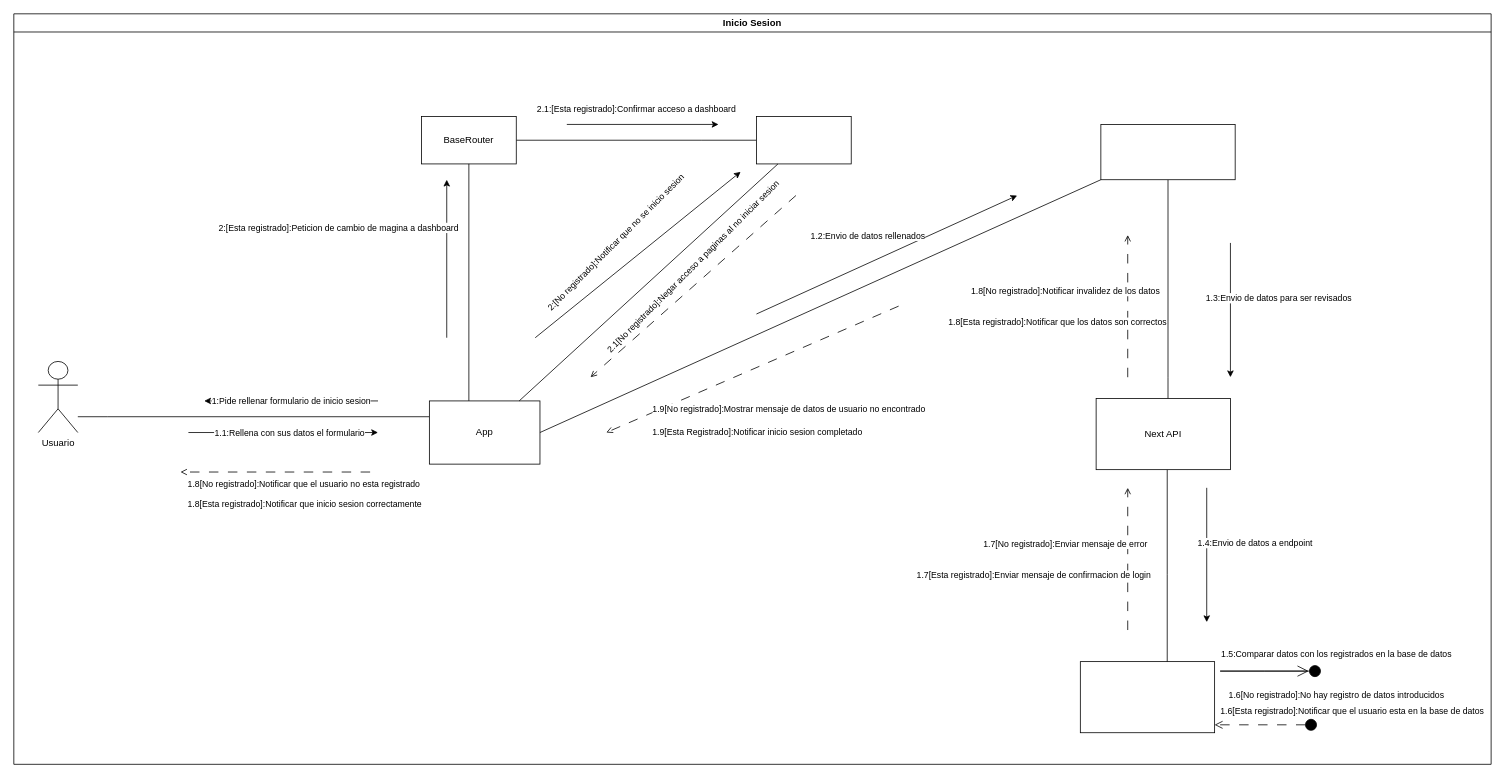
Some shapes in this 1505 by 778 pixel diagram are drawn without their labels. Here are the shapes that lost their labels. From the top down, the centre of each, then its label:
At [803,140]: "Middleware".
At [1167,152]: "Login".
At [1147,697]: "Fast API".
